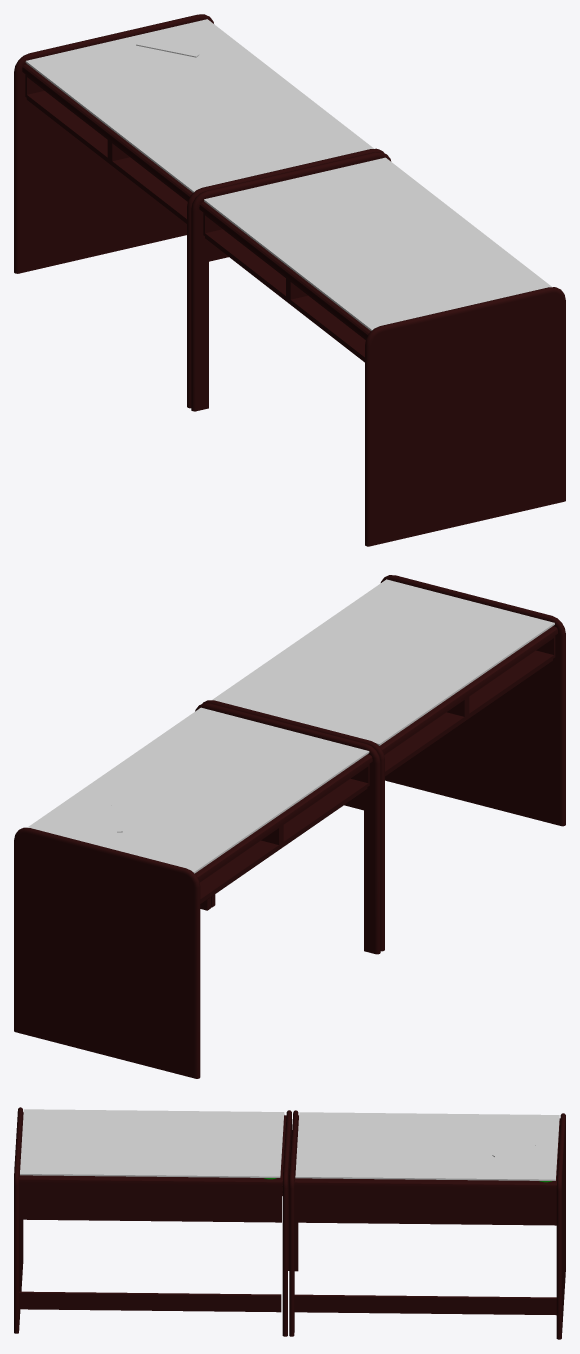
File: office_table.fbx
3 renders of one model, top to bottom at view 1: azimuth 30°, elevation 25°; view 2: azimuth 150°, elevation 25°; view 3: azimuth 270°, elevation 25°, orthographic. The views are drawn at different scales.
Parts seen in each view (by area): view 1: Table set 1.001; view 2: Table set 1.001; view 3: Table set 1.001.
Part boxes in pixels (x1,y1,x2,y2): Table set 1.001: (14, 14, 565, 546); Table set 1.001: (14, 575, 565, 1078); Table set 1.001: (14, 1107, 565, 1339).
Size of the model in its own units: 104 by 102 by 314.
